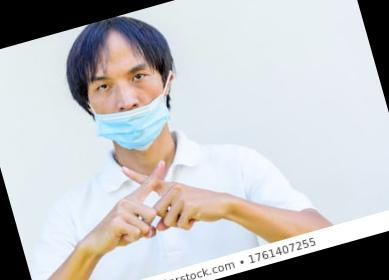mask_weared_incorrect: (82, 53, 181, 163)
